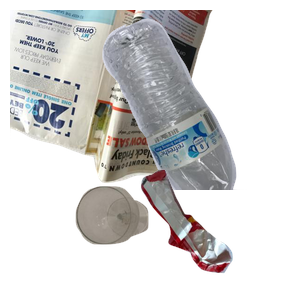glass: (73, 184, 214, 300)
paper: (10, 10, 215, 186)
plastic: (100, 16, 300, 196)
trash: (139, 167, 300, 300)
